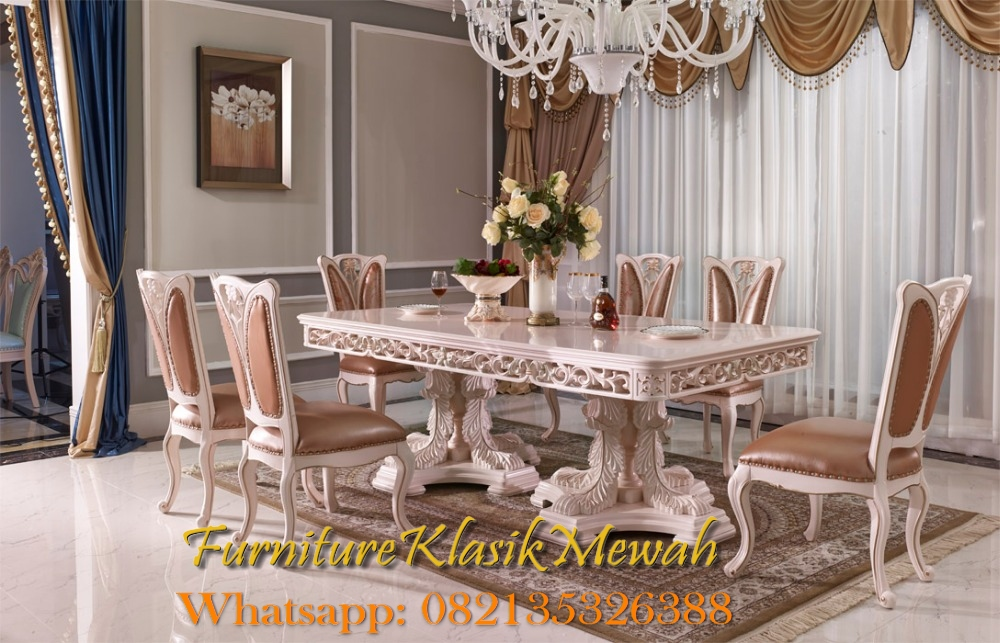Carving Chair: (127, 264, 432, 593), (761, 263, 979, 592)
Carving Table: (308, 283, 809, 571)
